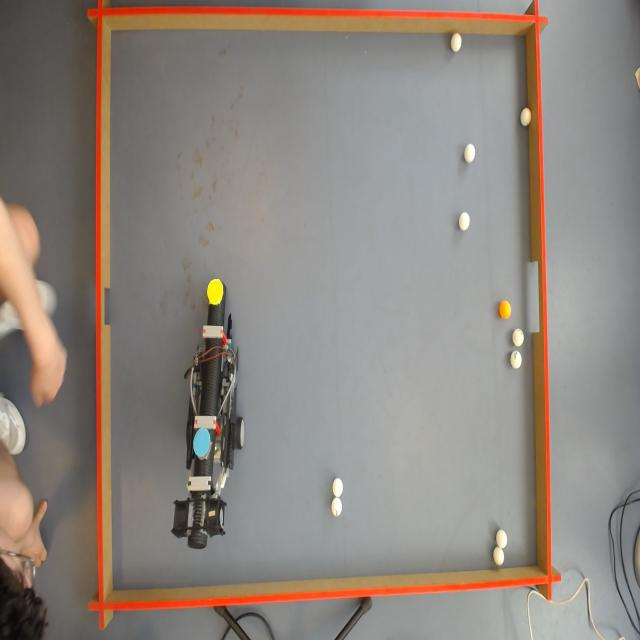orange: (499, 300, 515, 319)
robot: (183, 306, 242, 548)
robot-front: (206, 278, 224, 304)
robot-rear: (192, 428, 210, 457)
white: (494, 546, 507, 567), (518, 106, 530, 128), (450, 34, 463, 54), (465, 144, 478, 164), (498, 530, 511, 550), (458, 213, 471, 232), (513, 328, 526, 347), (332, 498, 344, 516), (332, 478, 343, 496), (512, 352, 522, 369)
